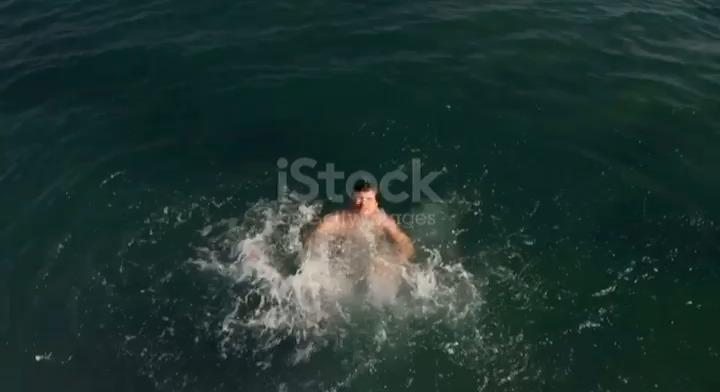Drowning: (248, 131, 463, 336)
